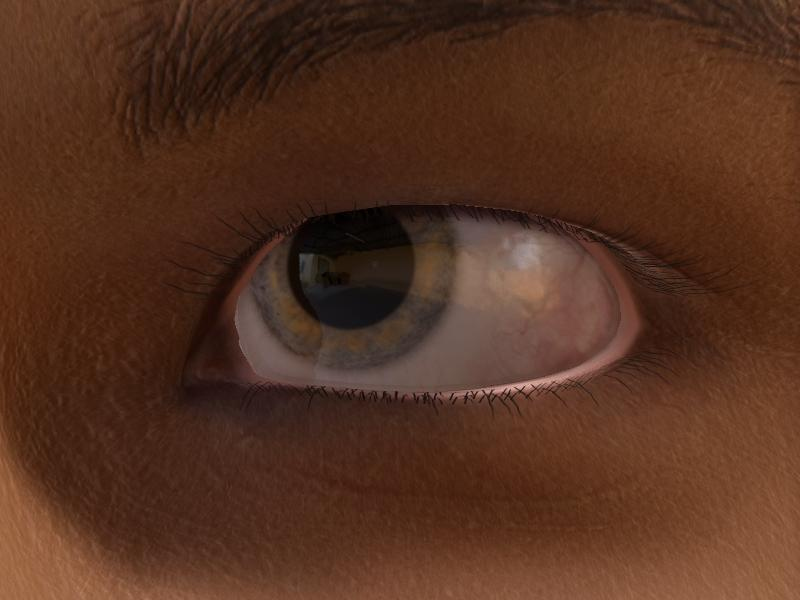eye: (248, 206, 457, 368)
